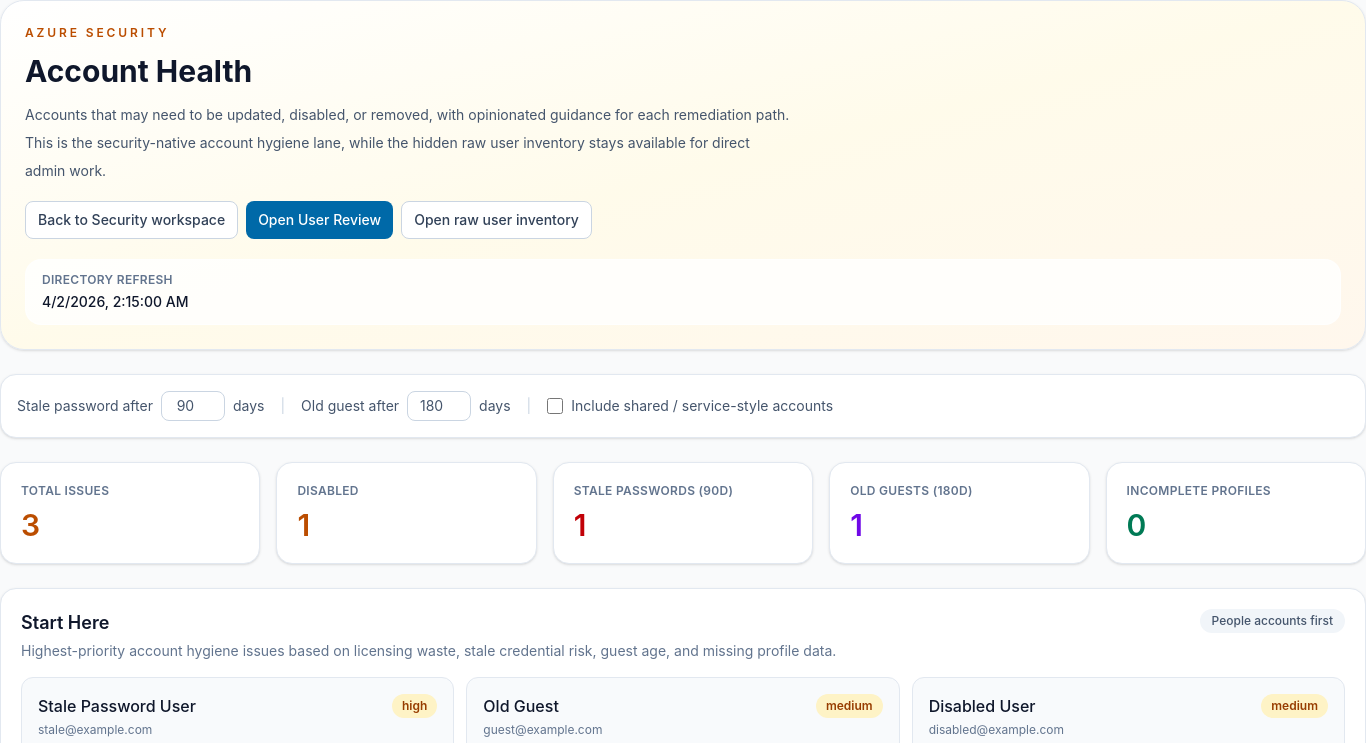
Test: AzureAccountHealthPage › keeps the threshold controls active in the new lane
The image size is (1366, 743).
Expected: the heading "Account Health" is shown, [25, 53, 252, 89]
Expected: the text "Stale Passwords (90d)" is shown, [574, 483, 733, 498]
Replace the text in the number field showing "90" with "365" at (193, 406), box [161, 391, 225, 421]
(page scrolled)
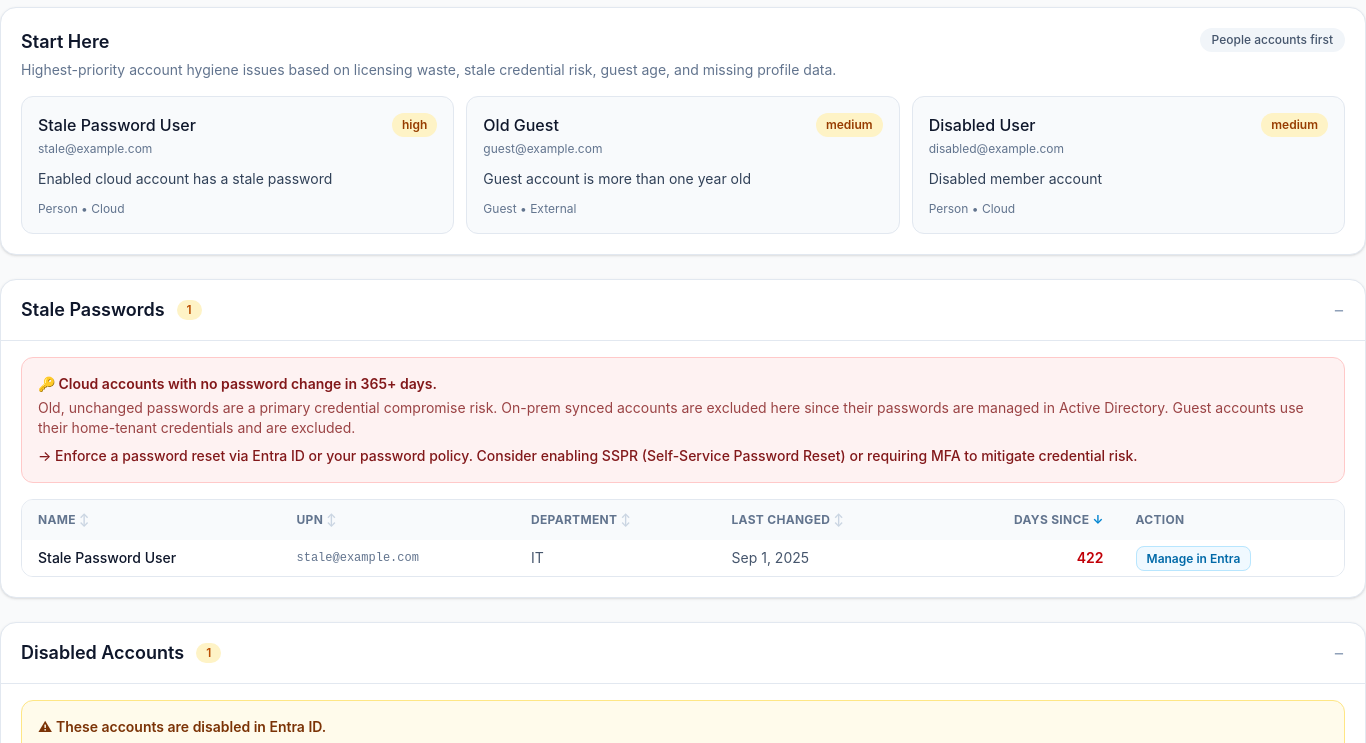
Now the text "🔑 Cloud accounts with no password change in 365+ days." is shown, box [38, 375, 437, 392]
